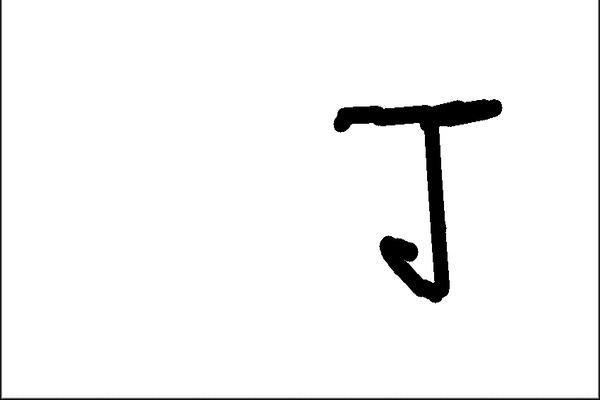J: (331, 91, 507, 305)
